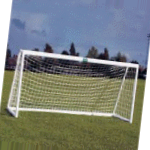goals: (7, 48, 140, 125)
